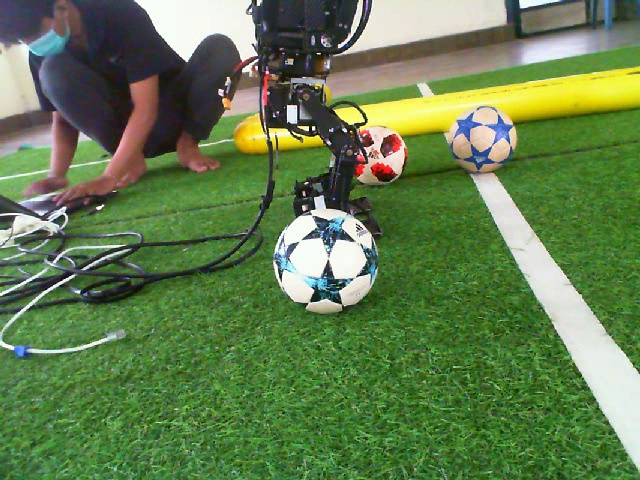ball: (271, 207, 381, 315), (444, 103, 519, 175), (351, 123, 411, 188)
